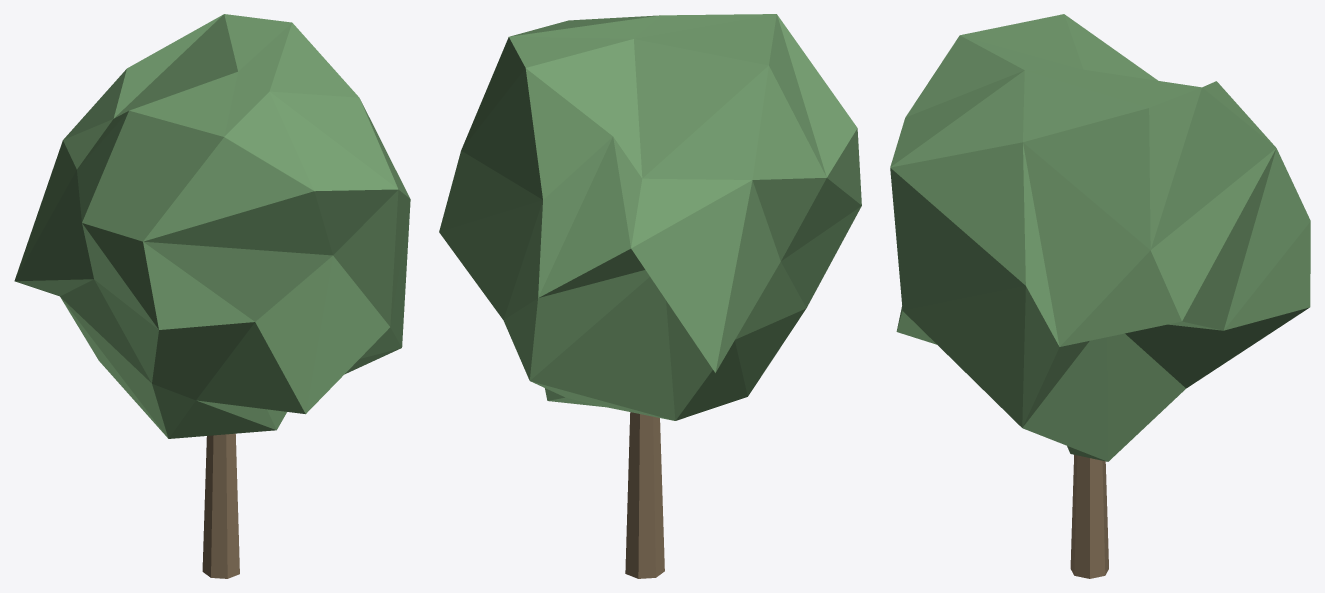
File: nature_tree_deciduous_01.glb
3 renders of one model, left to right at view 1: azimuth 30°, elevation 25°; view 2: azimuth 150°, elevation 25°; view 3: azimuth 270°, elevation 25°, orthographic. The views are drawn at different scales.
Visible parts, largest first — view 1: geometry_0; view 2: geometry_0; view 3: geometry_0.
Boxes of the visible parts, x1=… form: geometry_0: x1=14, y1=14, x2=410, y2=578; geometry_0: x1=439, y1=14, x2=861, y2=578; geometry_0: x1=890, y1=14, x2=1310, y2=578.
Size of the model in its own units: 2.68 by 4 by 2.98.
